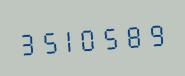eight: (122, 17, 142, 52)
five: (38, 23, 58, 58), (101, 19, 121, 53)
nine: (143, 16, 163, 50)
one: (59, 22, 79, 56)
three: (17, 25, 37, 59)
zero: (80, 20, 100, 55)
